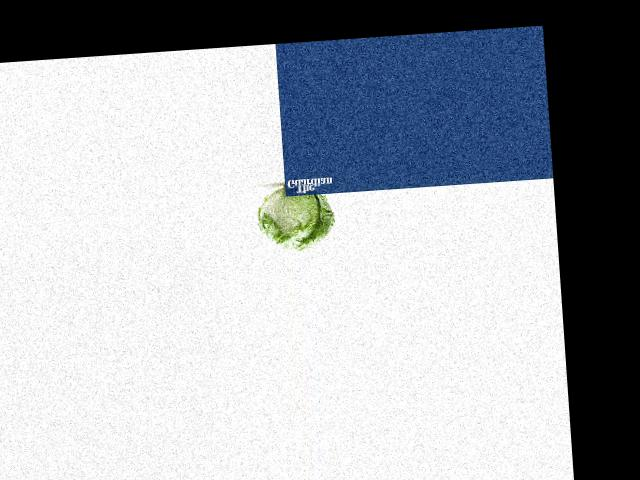lettuce: (257, 184, 335, 256)
